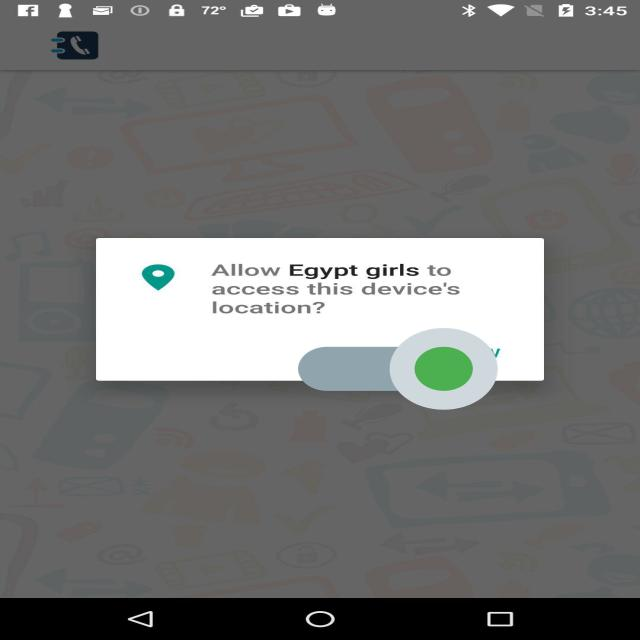social proof: (298, 294, 498, 444)
